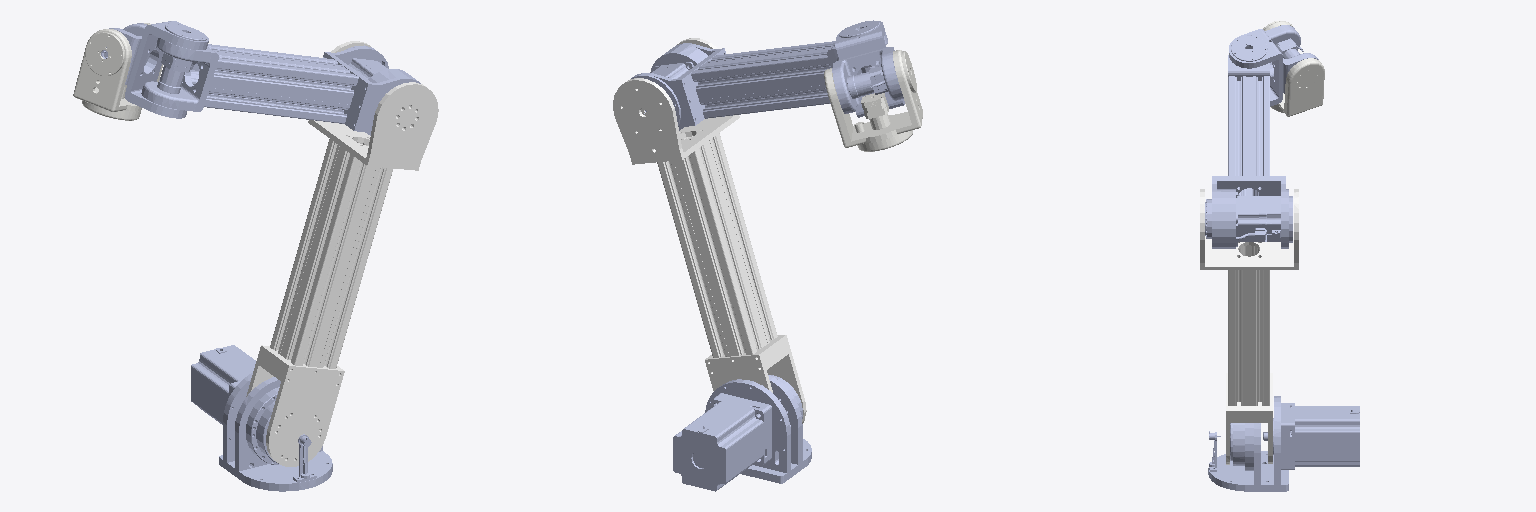
The robot description file, URDF, robot "Robot_URDF":
<?xml version="1.0" encoding="utf-8"?>
<!-- This URDF was automatically created by SolidWorks to URDF Exporter! Originally created by [author] ([email redacted]) 
     Commit Version: 1.6.0-4-g7f85cfe  Build Version: 1.6.7995.38578
     For more information, please see http://wiki.ros.org/sw_urdf_exporter -->
<robot
  name="Robot_URDF">
  <link
    name="base_link">
    <inertial>
      <origin
        xyz="2.16463897529384E-05 0.00206445317295911 0.0867575686305747"
        rpy="0 0 0" />
      <mass
        value="1.13447955048955" />
      <inertia
        ixx="0.00382536743502927"
        ixy="-5.21479626591934E-10"
        ixz="2.64488699834982E-11"
        iyy="0.00238349995413207"
        iyz="-2.23095995112024E-08"
        izz="0.00584445390155975" />
    </inertial>
    <visual>
      <origin
        xyz="0 0 0"
        rpy="0 0 0" />
      <geometry>
        <mesh
          filename="package://Robot_URDF/meshes/base_link.STL" />
      </geometry>
      <material
        name="">
        <color
          rgba="0.627450980392157 0.627450980392157 0.627450980392157 1" />
      </material>
    </visual>
    <collision>
      <origin
        xyz="0 0 0"
        rpy="0 0 0" />
      <geometry>
        <mesh
          filename="package://Robot_URDF/meshes/base_link.STL" />
      </geometry>
    </collision>
  </link>
  <link
    name="Link_1">
    <inertial>
      <origin
        xyz="0.00011645498015439 0.0838267871265151 0.0797228341638099"
        rpy="0 0 0" />
      <mass
        value="3.4548533335894" />
      <inertia
        ixx="0.0287244399044522"
        ixy="1.07716900681429E-05"
        ixz="1.36471809579483E-05"
        iyy="0.0104194299620773"
        iyz="-0.00252304337513048"
        izz="0.0275587652557441" />
    </inertial>
    <visual>
      <origin
        xyz="0 0 0"
        rpy="0 0 0" />
      <geometry>
        <mesh
          filename="package://Robot_URDF/meshes/Link_1.STL" />
      </geometry>
      <material
        name="">
        <color
          rgba="0.792156862745098 0.819607843137255 0.933333333333333 1" />
      </material>
    </visual>
    <collision>
      <origin
        xyz="0 0 0"
        rpy="0 0 0" />
      <geometry>
        <mesh
          filename="package://Robot_URDF/meshes/Link_1.STL" />
      </geometry>
    </collision>
  </link>
  <joint
    name="Joint_1"
    type="continuous">
    <origin
      xyz="0 0 0.279500000004745"
      rpy="0 0 0" />
    <parent
      link="base_link" />
    <child
      link="Link_1" />
    <axis
      xyz="0 0 1" />
  </joint>
  <link
    name="Link_2">
    <inertial>
      <origin
        xyz="1.3146531566699E-06 -0.00182381838730872 0.335988235790637"
        rpy="0 0 0" />
      <mass
        value="1.77408202340128" />
      <inertia
        ixx="0.085386382093851"
        ixy="-5.25912993259688E-09"
        ixz="-4.99637761461639E-07"
        iyy="0.0818444958818262"
        iyz="-0.00123956240616671"
        izz="0.00760750680406488" />
    </inertial>
    <visual>
      <origin
        xyz="0 0 0"
        rpy="0 0 0" />
      <geometry>
        <mesh
          filename="package://Robot_URDF/meshes/Link_2.STL" />
      </geometry>
      <material
        name="">
        <color
          rgba="1 1 1 1" />
      </material>
    </visual>
    <collision>
      <origin
        xyz="0 0 0"
        rpy="0 0 0" />
      <geometry>
        <mesh
          filename="package://Robot_URDF/meshes/Link_2.STL" />
      </geometry>
    </collision>
  </link>
  <joint
    name="Joint_2"
    type="continuous">
    <origin
      xyz="2.12624101100234E-05 0 0.0889999999999973"
      rpy="0 0.311814355253914 0" />
    <parent
      link="Link_1" />
    <child
      link="Link_2" />
    <axis
      xyz="0 1 0" />
  </joint>
  <link
    name="Link_3">
    <inertial>
      <origin
        xyz="-0.122631077248486 -0.00682212616541067 0.0430002736628845"
        rpy="0 0 0" />
      <mass
        value="2.67779599552772" />
      <inertia
        ixx="0.0164088008679418"
        ixy="0.00221872226874433"
        ixz="0.0239959762920904"
        iyy="0.0817978883143763"
        iyz="-0.000778372381264585"
        izz="0.0760693983250324" />
    </inertial>
    <visual>
      <origin
        xyz="0 0 0"
        rpy="0 0 0" />
      <geometry>
        <mesh
          filename="package://Robot_URDF/meshes/Link_3.STL" />
      </geometry>
      <material
        name="">
        <color
          rgba="0.792156862745098 0.819607843137255 0.933333333333333 1" />
      </material>
    </visual>
    <collision>
      <origin
        xyz="0 0 0"
        rpy="0 0 0" />
      <geometry>
        <mesh
          filename="package://Robot_URDF/meshes/Link_3.STL" />
      </geometry>
    </collision>
  </link>
  <joint
    name="Joint_3"
    type="continuous">
    <origin
      xyz="1.06288581031011E-05 0 0.6288"
      rpy="0 -0.311814355253914 0" />
    <parent
      link="Link_2" />
    <child
      link="Link_3" />
    <axis
      xyz="0 1 0" />
  </joint>
  <link
    name="Link_4">
    <inertial>
      <origin
        xyz="-0.0359520473492404 0.0573887943262518 0.00814393664767388"
        rpy="0 0 0" />
      <mass
        value="0.723954519230051" />
      <inertia
        ixx="0.00246147379577402"
        ixy="0.000180045212397569"
        ixz="6.62302922165107E-05"
        iyy="0.00239429786206059"
        iyz="-0.000225090699171038"
        izz="0.00231550922089015" />
    </inertial>
    <visual>
      <origin
        xyz="0 0 0"
        rpy="0 0 0" />
      <geometry>
        <mesh
          filename="package://Robot_URDF/meshes/Link_4.STL" />
      </geometry>
      <material
        name="">
        <color
          rgba="0.792156862745098 0.819607843137255 0.933333333333333 1" />
      </material>
    </visual>
    <collision>
      <origin
        xyz="0 0 0"
        rpy="0 0 0" />
      <geometry>
        <mesh
          filename="package://Robot_URDF/meshes/Link_4.STL" />
      </geometry>
    </collision>
  </link>
  <joint
    name="Joint_4"
    type="continuous">
    <origin
      xyz="-0.417330825710809 -5.00000000068779E-05 0.14558328650592"
      rpy="0 0 0" />
    <parent
      link="Link_3" />
    <child
      link="Link_4" />
    <axis
      xyz="0.329377735215235 0 0.944198235300449" />
  </joint>
  <link
    name="Link_5">
    <inertial>
      <origin
        xyz="-0.0624097317939219 0.0890815688302158 -0.0463349776774049"
        rpy="0 0 0" />
      <mass
        value="0.557275757190974" />
      <inertia
        ixx="0.00147370073890005"
        ixy="-0.00051087519911536"
        ixz="5.93024881568717E-05"
        iyy="0.00215641492566466"
        iyz="0.000102111247381863"
        izz="0.00188605882239783" />
    </inertial>
    <visual>
      <origin
        xyz="0 0 0"
        rpy="0 0 0" />
      <geometry>
        <mesh
          filename="package://Robot_URDF/meshes/Link_5.STL" />
      </geometry>
      <material
        name="">
        <color
          rgba="0.964705882352941 0.964705882352941 0.952941176470588 1" />
      </material>
    </visual>
    <collision>
      <origin
        xyz="0 0 0"
        rpy="0 0 0" />
      <geometry>
        <mesh
          filename="package://Robot_URDF/meshes/Link_5.STL" />
      </geometry>
    </collision>
  </link>
  <joint
    name="Joint_5"
    type="continuous">
    <origin
      xyz="0.00329377735215031 0 0.0094419823530052"
      rpy="0 0 0" />
    <parent
      link="Link_4" />
    <child
      link="Link_5" />
    <axis
      xyz="0.832278673184367 0.472247426691336 -0.290335285740264" />
  </joint>
  <link
    name="Link_6">
    <inertial>
      <origin
        xyz="-0.0179860636923776 -0.00224921880435858 -0.0552175564098192"
        rpy="0 0 0" />
      <mass
        value="0.0911378688516544" />
      <inertia
        ixx="8.75871370592045E-05"
        ixy="9.04869890388178E-07"
        ixz="2.22142479510039E-05"
        iyy="8.04644274197435E-05"
        iyz="2.77796771270418E-06"
        izz="0.00014854943256083" />
    </inertial>
    <visual>
      <origin
        xyz="0 0 0"
        rpy="0 0 0" />
      <geometry>
        <mesh
          filename="package://Robot_URDF/meshes/Link_6.STL" />
      </geometry>
      <material
        name="">
        <color
          rgba="0.964705882352941 0.964705882352941 0.952941176470588 1" />
      </material>
    </visual>
    <collision>
      <origin
        xyz="0 0 0"
        rpy="0 0 0" />
      <geometry>
        <mesh
          filename="package://Robot_URDF/meshes/Link_6.STL" />
      </geometry>
    </collision>
  </link>
  <joint
    name="Joint_6"
    type="continuous">
    <origin
      xyz="-0.0635874216167502 0.0878119373952039 -0.0413069399783987"
      rpy="0 0 0" />
    <parent
      link="Link_5" />
    <child
      link="Link_6" />
    <axis
      xyz="-0.309482526144274 -0.0387018487941227 -0.950117220616107" />
  </joint>
</robot>

--- What the picture shows (computed from the rendered views, not written in the file) ---
Views: 3 orthographic renders of the robot side by side, from view 1: azimuth 30°, elevation 25°; view 2: azimuth 150°, elevation 25°; view 3: azimuth 270°, elevation 25°.
Model Robot_URDF with 7 links and 6 joints (6 continuous), rooted at base_link, posed every joint at zero.
Links seen in each view (by area): view 1: Link_2, Link_3, Link_1, Link_4, Link_5; view 2: Link_2, Link_1, Link_3, Link_4, Link_5; view 3: Link_3, Link_2, Link_1, Link_4, Link_5.
Link boxes in pixels (<box>): Link_2: <box>246,41,438,466</box>; Link_3: <box>141,38,420,135</box>; Link_1: <box>191,345,332,491</box>; Link_4: <box>101,21,208,118</box>; Link_5: <box>73,23,162,111</box>; Link_2: <box>613,38,806,423</box>; Link_1: <box>673,375,811,491</box>; Link_3: <box>631,32,887,130</box>; Link_4: <box>832,20,904,117</box>; Link_5: <box>824,50,922,147</box>; Link_3: <box>1205,47,1292,248</box>; Link_2: <box>1200,189,1298,464</box>; Link_1: <box>1208,396,1359,491</box>; Link_4: <box>1229,25,1318,106</box>; Link_5: <box>1263,21,1324,116</box>.
Bounding box of the posed robot: 0.6376 × 0.3389 × 0.9227 m (x, y, z).
Meshes: 7 distinct files referenced, 6 mesh visuals loaded (6 binary STL); not drawn: 1 (reference not matched to a file when rendering).